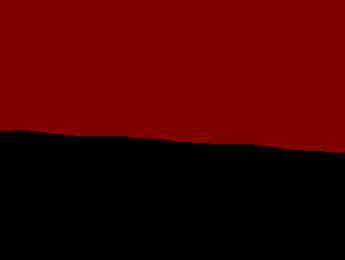Sky: (1, 1, 344, 152)
